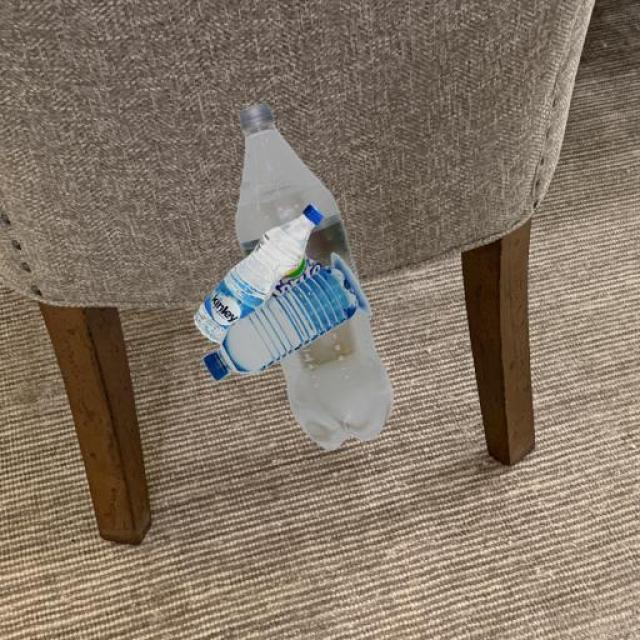bottle: (224, 91, 400, 451), (200, 261, 372, 380), (188, 196, 322, 344)
